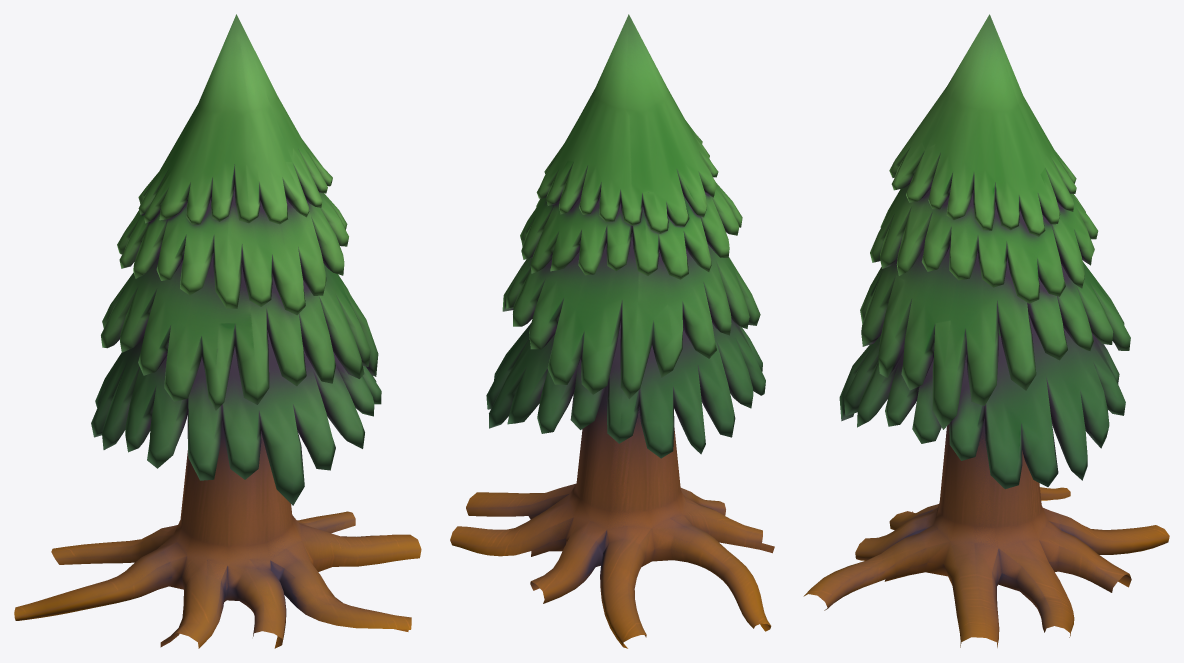
Rendered from Tree.gltf.
3 views of the same model, side by side, from view 1: azimuth 30°, elevation 25°; view 2: azimuth 150°, elevation 25°; view 3: azimuth 270°, elevation 25° (orthographic). The views are drawn at different scales.
Parts seen in each view (by area): view 1: Tree; view 2: Tree; view 3: Tree.
Boxes of the visible parts, <box> form: Tree: <box>14,14,421,648</box>; Tree: <box>450,14,774,648</box>; Tree: <box>803,14,1169,647</box>.
Bounding box in the file's own units: 3.4 × 5.36 × 3.11.
2 materials, 2 textured.
